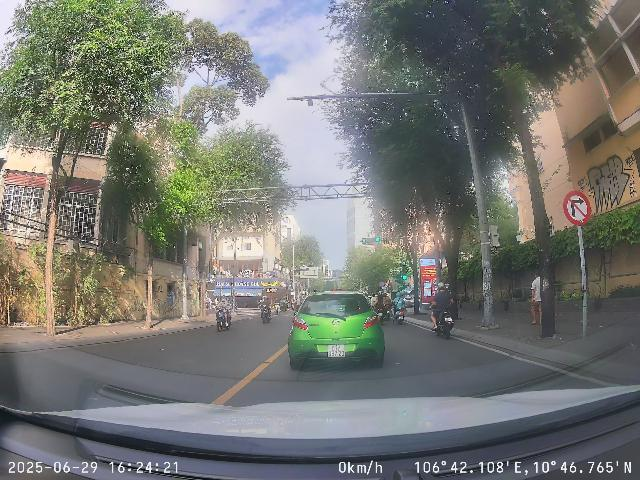123b-cam-re-phai: (563, 190, 591, 226)
